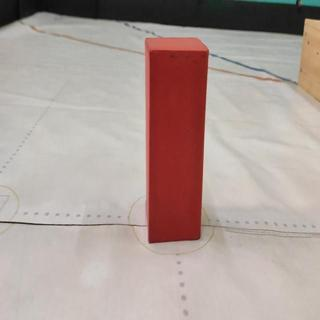redbox: (145, 37, 208, 240)
